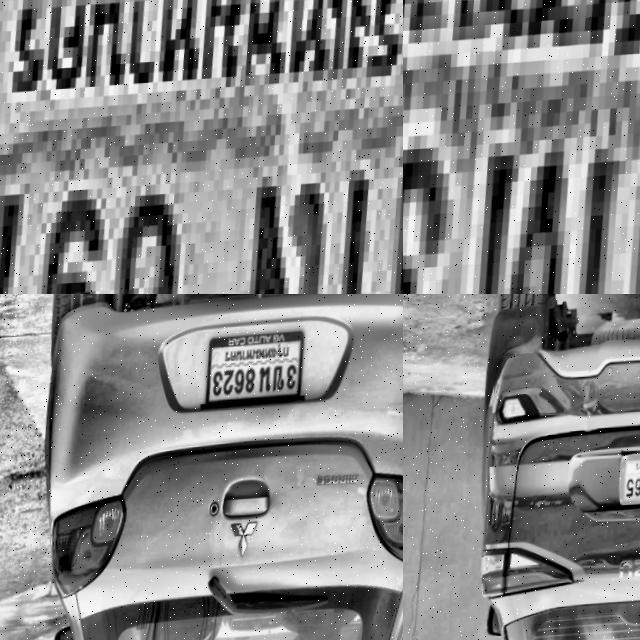license-plate: (0, 0, 403, 294), (403, 0, 640, 294), (207, 332, 312, 411), (618, 440, 640, 512)
